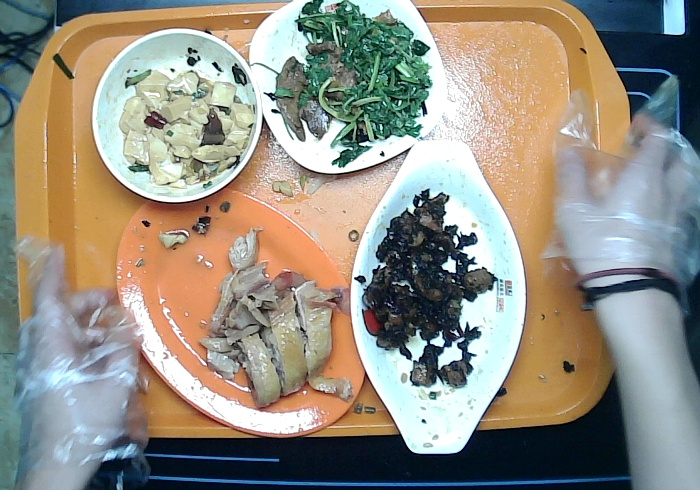NLDX-Bai_Se_Xiao_Fang_Die: (248, 1, 456, 182)
NLDX-Fan_Wan: (86, 26, 262, 205)
NLDX-Ju_Se_Pan: (113, 178, 373, 442)
NLDX-Yu_Pan: (349, 125, 534, 463)
